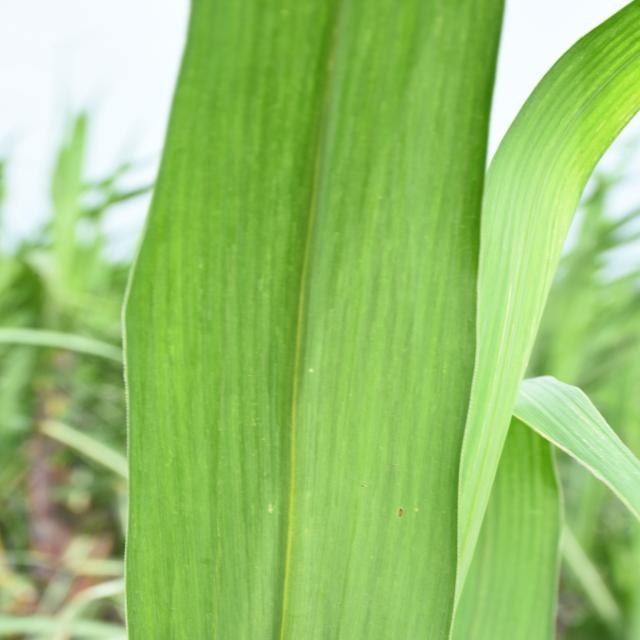Sugarcane: (133, 6, 493, 640)
